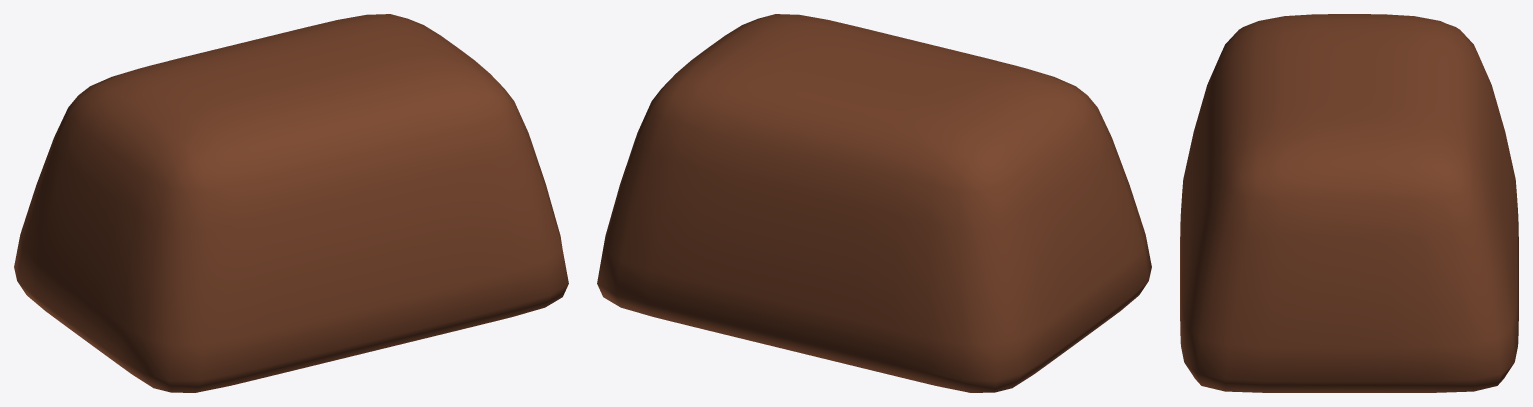
File: Toffee_03.fbx
3 views of the same model, side by side, from view 1: azimuth 30°, elevation 25°; view 2: azimuth 150°, elevation 25°; view 3: azimuth 270°, elevation 25° (orthographic). The views are drawn at different scales.
Parts seen in each view (by area): view 1: Toffee_03_LOD0; view 2: Toffee_03_LOD0; view 3: Toffee_03_LOD0.
Boxes of the visible parts, x1,y1,x2,y2 form: Toffee_03_LOD0: [14, 14, 568, 392]; Toffee_03_LOD0: [597, 14, 1151, 392]; Toffee_03_LOD0: [1180, 14, 1518, 392].
Size of what is drawn, in the model's own units: 662 by 342 by 462.
